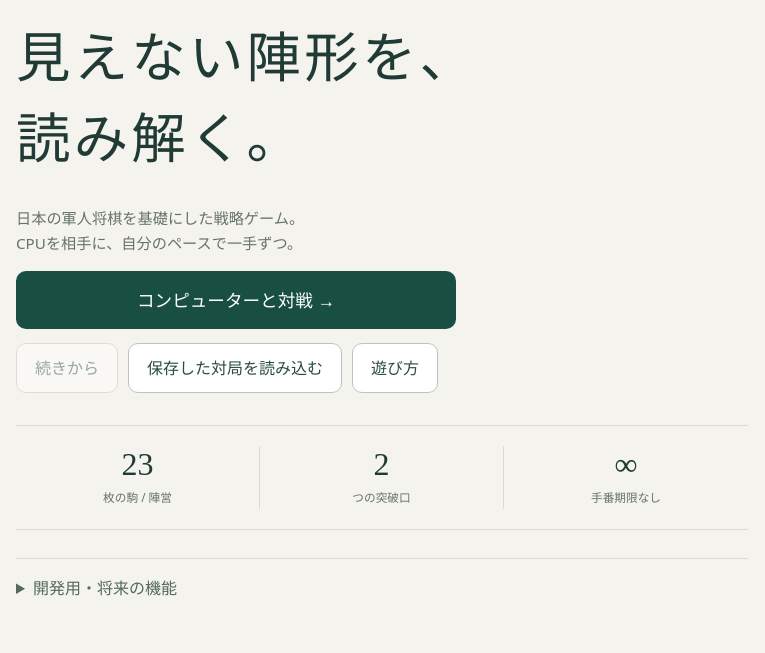
home links to formal rules and clearly marks online placeholders
This screenshot has width=765, height=653.
(page scrolled)
Click the heading "開発用・将来の機能": (105, 588) [33,578,177,600]
(page scrolled)
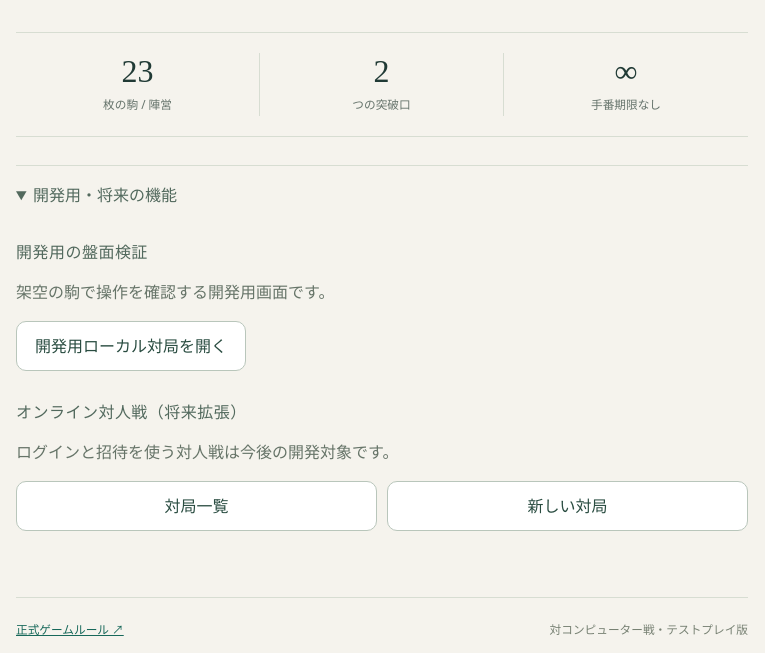
Click the button "対局一覧": (196, 506) [16,481,377,531]
(page scrolled)
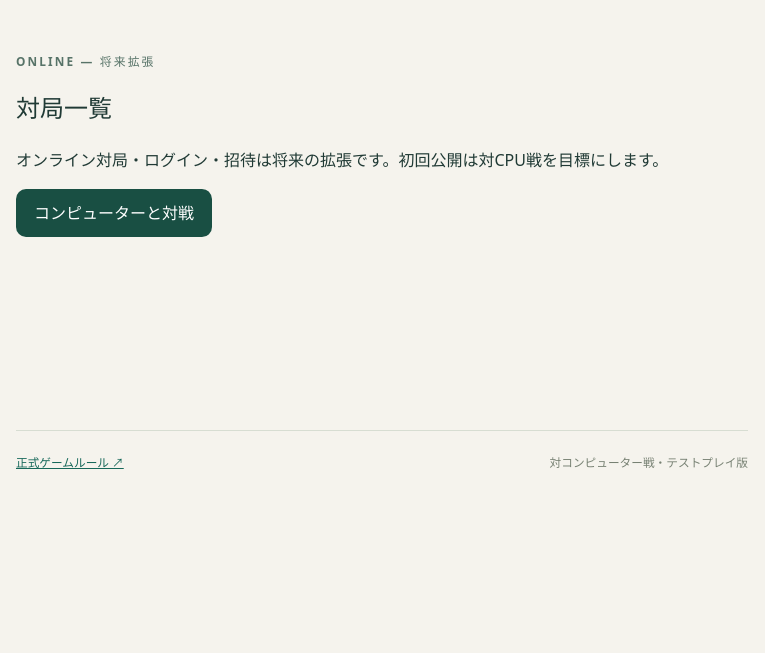
Result: the text "オンライン対局・ログイン・招待は将来の拡張です。初回公開は対CPU戦を目標にします。" is shown at [16,147,748,173]
